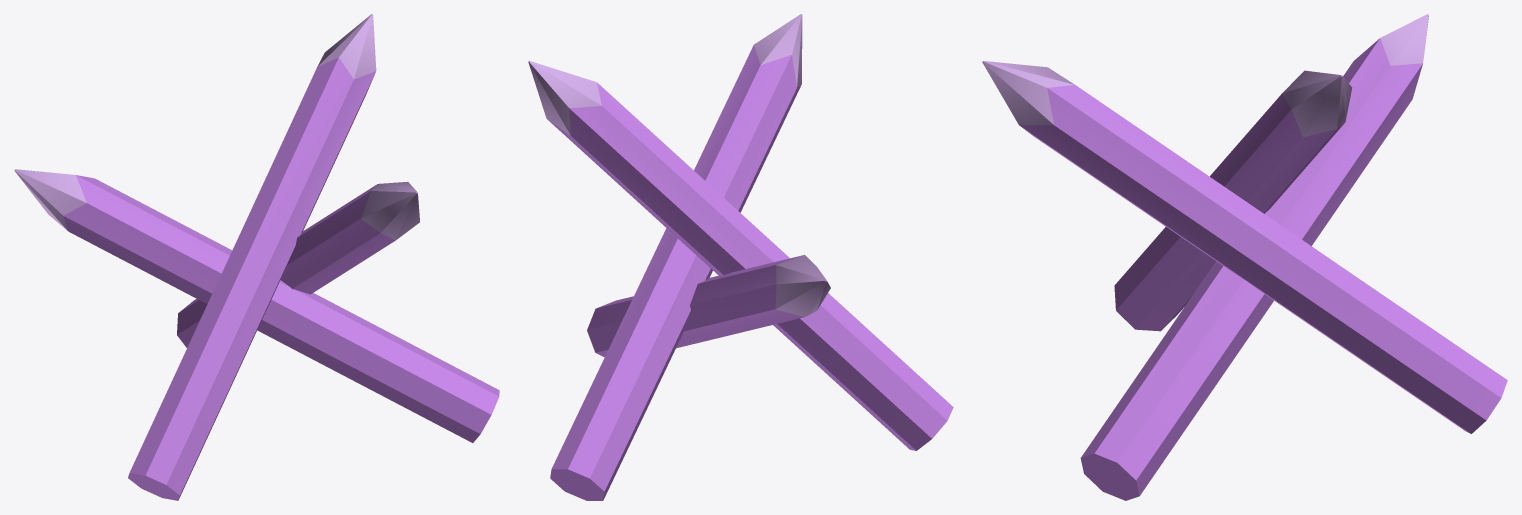
The model's file is stake_3x.fbx.
The picture shows the model from 3 angles, left to right: view 1: azimuth 30°, elevation 25°; view 2: azimuth 150°, elevation 25°; view 3: azimuth 270°, elevation 25°; orthographic projection. The views are drawn at different scales.
Parts seen in each view (by area): view 1: polySurface1; view 2: polySurface1; view 3: polySurface1.
Part boxes in pixels (x1,y1,x2,y2): polySurface1: [14, 14, 499, 500]; polySurface1: [528, 14, 953, 500]; polySurface1: [982, 14, 1507, 500].
Bounding box in the file's own units: 13.61 × 13.17 × 14.92.
